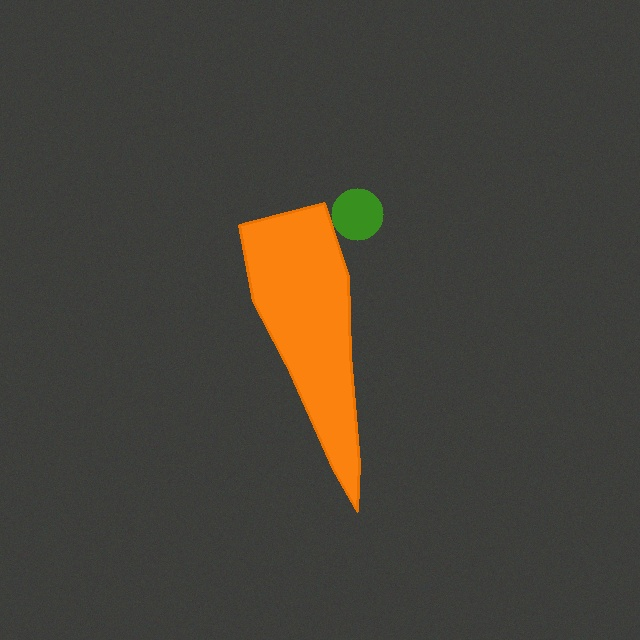Good_Carrot: (231, 195, 367, 519)
